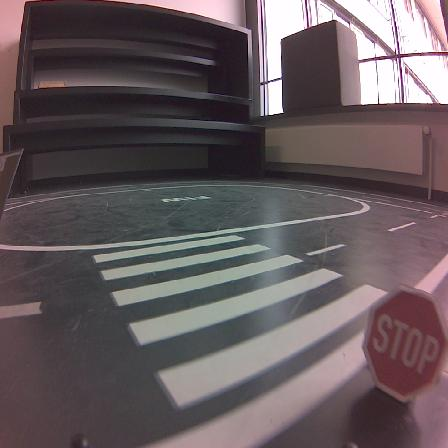STOP: (363, 286, 447, 401)
